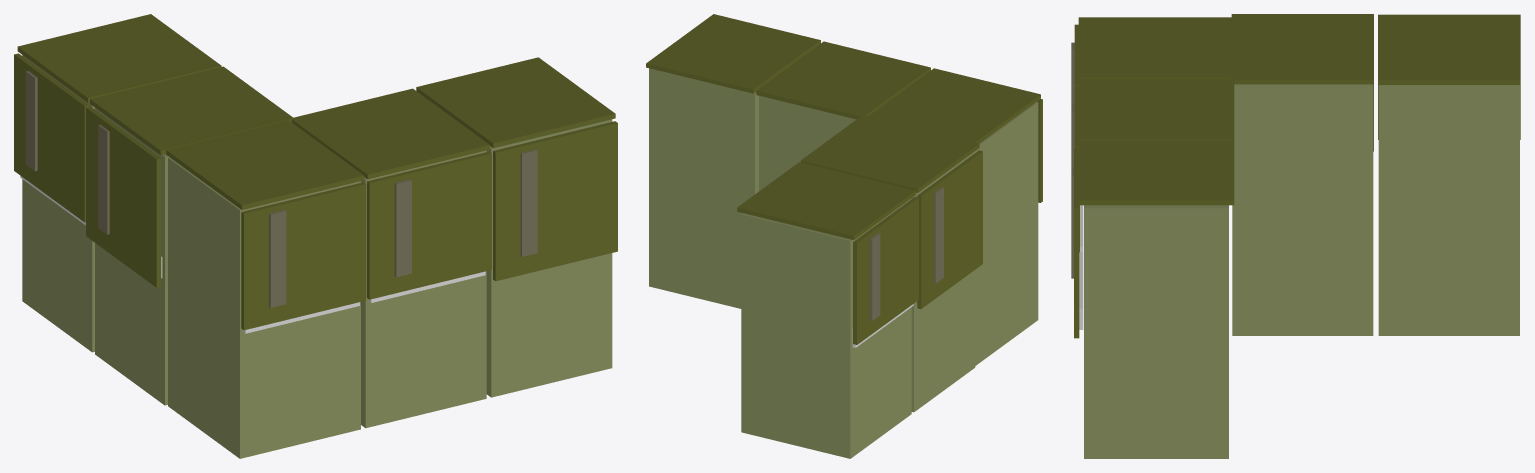
File: SM_HescoEsquina_v4_Red_e0_Sano_LOD1.fbx
3 renders of one model, left to right at view 1: azimuth 30°, elevation 25°; view 2: azimuth 150°, elevation 25°; view 3: azimuth 270°, elevation 25°, orthographic. The views are drawn at different scales.
Parts seen in each view (by area): view 1: SM_hesco_piezas_v16_LOD1; view 2: SM_hesco_piezas_v16_LOD1; view 3: SM_hesco_piezas_v16_LOD1.
Part boxes in pixels (<box>): SM_hesco_piezas_v16_LOD1: <box>14,14,617,458</box>; SM_hesco_piezas_v16_LOD1: <box>646,14,1042,458</box>; SM_hesco_piezas_v16_LOD1: <box>1071,14,1520,458</box>.
Size of the model in its own units: 3.41 by 2.16 by 3.41.
